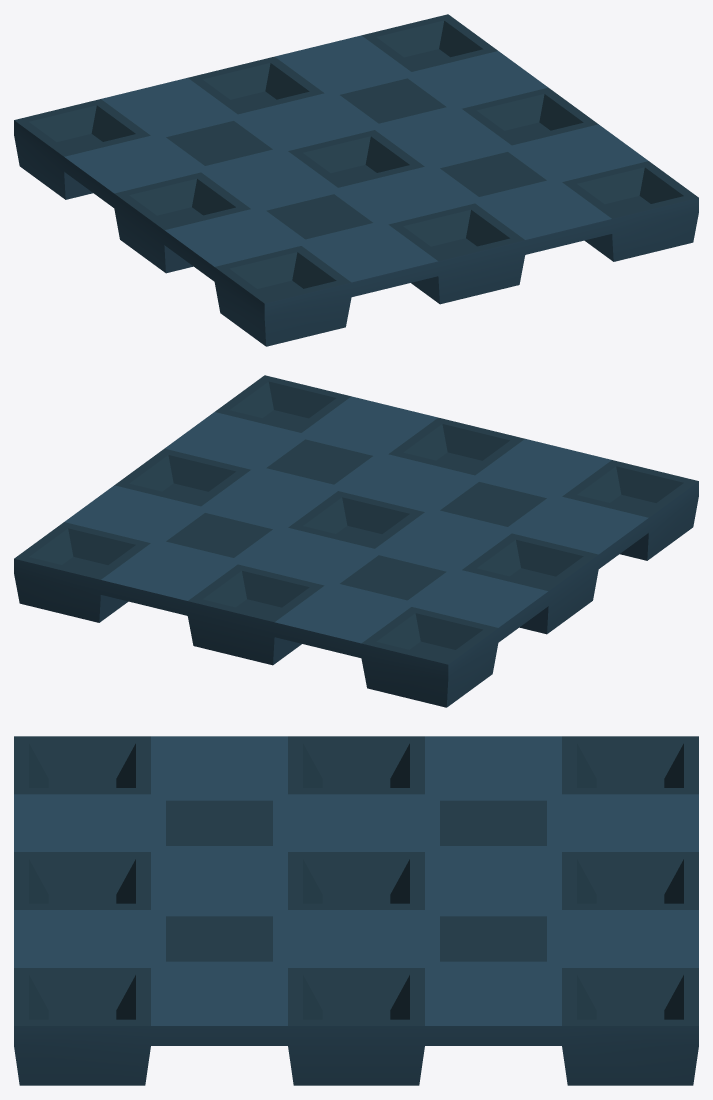
Rendered from SM_Prop_Pallet_03.glb.
The picture shows the model from 3 angles, top to bottom: view 1: azimuth 30°, elevation 25°; view 2: azimuth 150°, elevation 25°; view 3: azimuth 270°, elevation 25°; orthographic projection. The views are drawn at different scales.
Visible parts, largest first — view 1: SM_Prop_Pallet_03; view 2: SM_Prop_Pallet_03; view 3: SM_Prop_Pallet_03.
Part boxes in pixels (box(x1,y1,x2,y2)): SM_Prop_Pallet_03: box(14, 14, 698, 346); SM_Prop_Pallet_03: box(14, 375, 698, 707); SM_Prop_Pallet_03: box(14, 736, 698, 1085).
Size of the model in its own units: 1.76 by 0.1765 by 1.76.
1 material, 1 textured.
